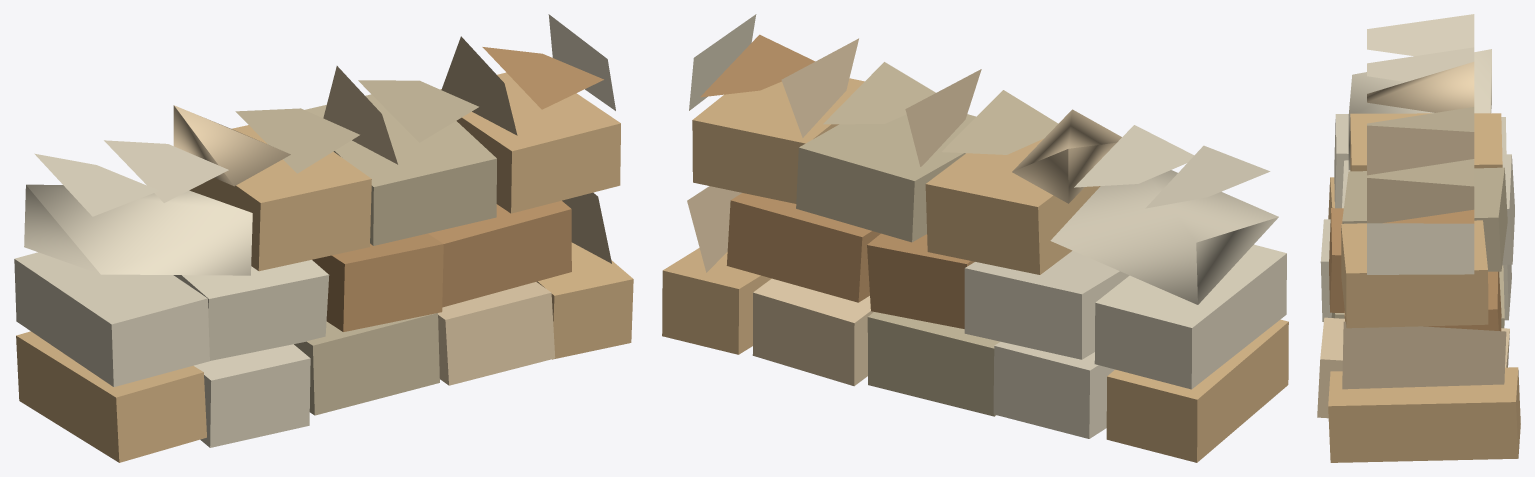
File: fence-stone-run.lod1.glb
3 renders of one model, left to right at view 1: azimuth 30°, elevation 25°; view 2: azimuth 150°, elevation 25°; view 3: azimuth 270°, elevation 25°, orthographic. The views are drawn at different scales.
Visible parts, largest first — view 1: fence-stone-run_lod1; view 2: fence-stone-run_lod1; view 3: fence-stone-run_lod1.
Part boxes in pixels (left/top/right/bottom): fence-stone-run_lod1: left=14, top=14, right=633, bottom=462; fence-stone-run_lod1: left=662, top=14, right=1288, bottom=462; fence-stone-run_lod1: left=1317, top=14, right=1520, bottom=462.
Size of the model in its own units: 0.9998 by 0.4949 by 0.3788.
